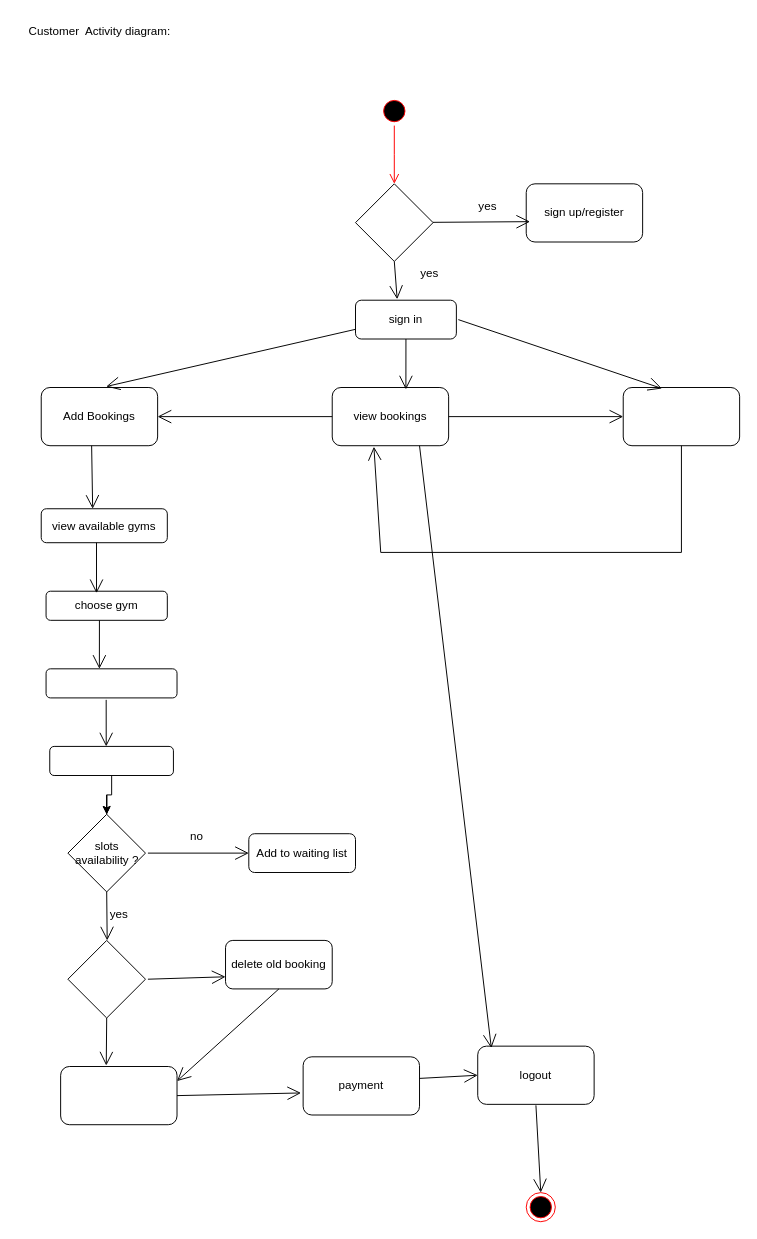
Some shapes in this 757 by 1239 pixel diagram are drawn without their labels. Each missing label, with the centre of its shape:
any prev bookings?: (x=106, y=978)
book slot: (x=118, y=1095)
choose slots: (x=111, y=760)
Delete bookings: (x=681, y=416)
New user?: (x=394, y=222)
view slots: (x=111, y=683)
